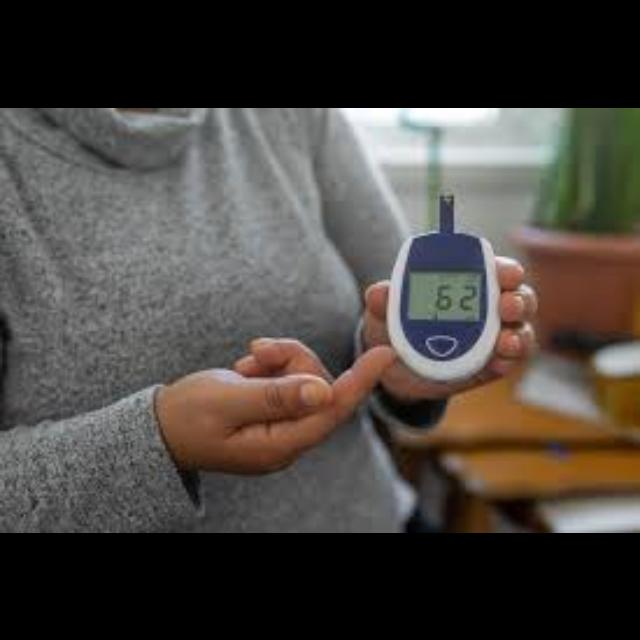Glucose-Meter: (387, 194, 500, 380)
